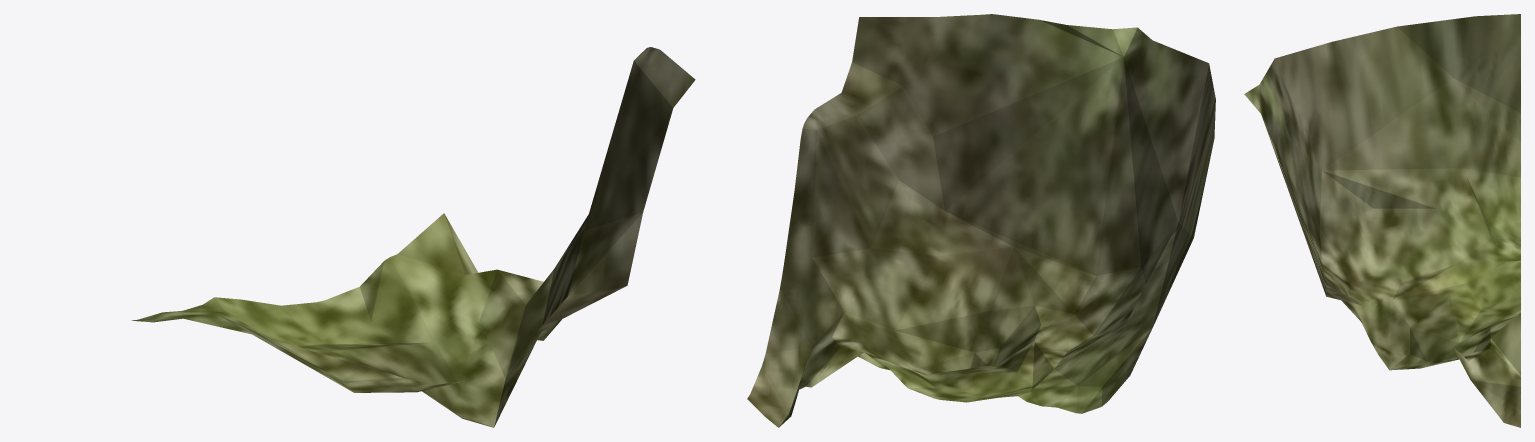
3 renders of one model, left to right at view 1: azimuth 30°, elevation 25°; view 2: azimuth 150°, elevation 25°; view 3: azimuth 270°, elevation 25°, orthographic. The views are drawn at different scales.
Bounding box in the file's own units: 1.51 × 1.1 × 1.06.
1 material, 1 textured.
